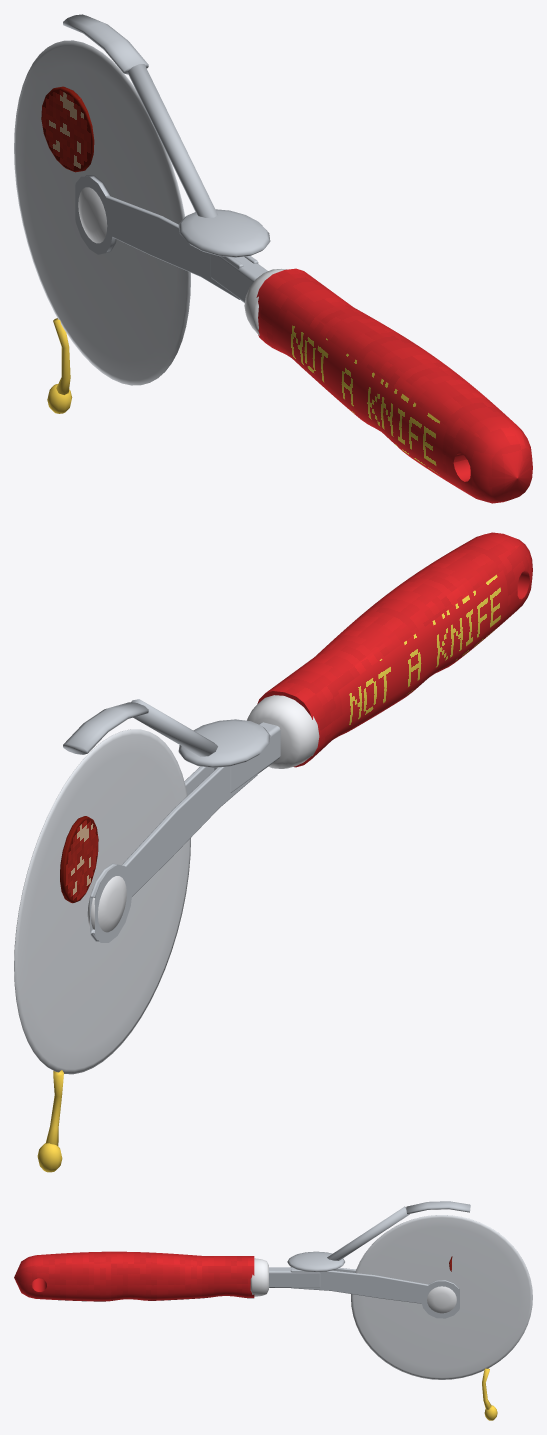
File: w_knife_pizza.glb
The picture shows the model from 3 angles, top to bottom: view 1: azimuth 30°, elevation 25°; view 2: azimuth 150°, elevation 25°; view 3: azimuth 270°, elevation 25°; orthographic projection. The views are drawn at different scales.
Visible parts, largest first — view 1: pizza_wzB, pizza_wzA, pizza_wzN; view 2: pizza_wzB, pizza_wzA, pizza_wzN; view 3: pizza_wzB, pizza_wzA, pizza_wzN.
Boxes of the visible parts, x1,y1,x2,y2 form: pizza_wzB: (14,14,287,385); pizza_wzA: (256,268,532,503); pizza_wzN: (41,86,94,413); pizza_wzB: (14,695,319,1074); pizza_wzA: (257,532,532,767); pizza_wzN: (37,816,98,1172); pizza_wzB: (250,1201,532,1379); pizza_wzA: (14,1251,254,1301); pizza_wzN: (449,1256,497,1420).
Bounding box in the file's own units: 0.024 × 0.1313 × 0.285.
8 materials, 4 textured.
